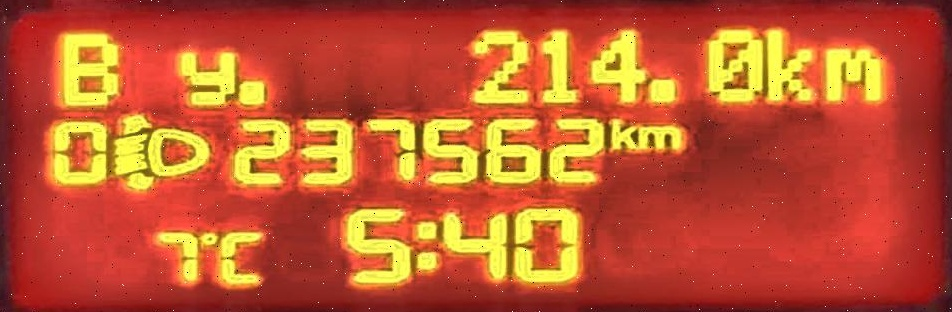-: (645, 76, 680, 105), (235, 79, 268, 107)
0: (512, 205, 579, 284), (702, 27, 762, 104), (47, 119, 110, 186)
1: (537, 28, 579, 105)
2: (467, 27, 532, 104), (230, 118, 292, 187), (547, 117, 605, 184)
3: (295, 116, 353, 186)
4: (437, 210, 511, 282), (588, 29, 645, 104)
5: (340, 206, 413, 286), (419, 117, 479, 184)
6: (481, 117, 541, 184)
7: (361, 117, 418, 181), (152, 230, 202, 285)
X: (57, 30, 123, 109), (763, 26, 817, 103), (172, 49, 239, 107), (821, 44, 885, 103), (217, 229, 264, 286), (411, 219, 441, 272), (636, 124, 683, 151), (608, 117, 638, 151)
